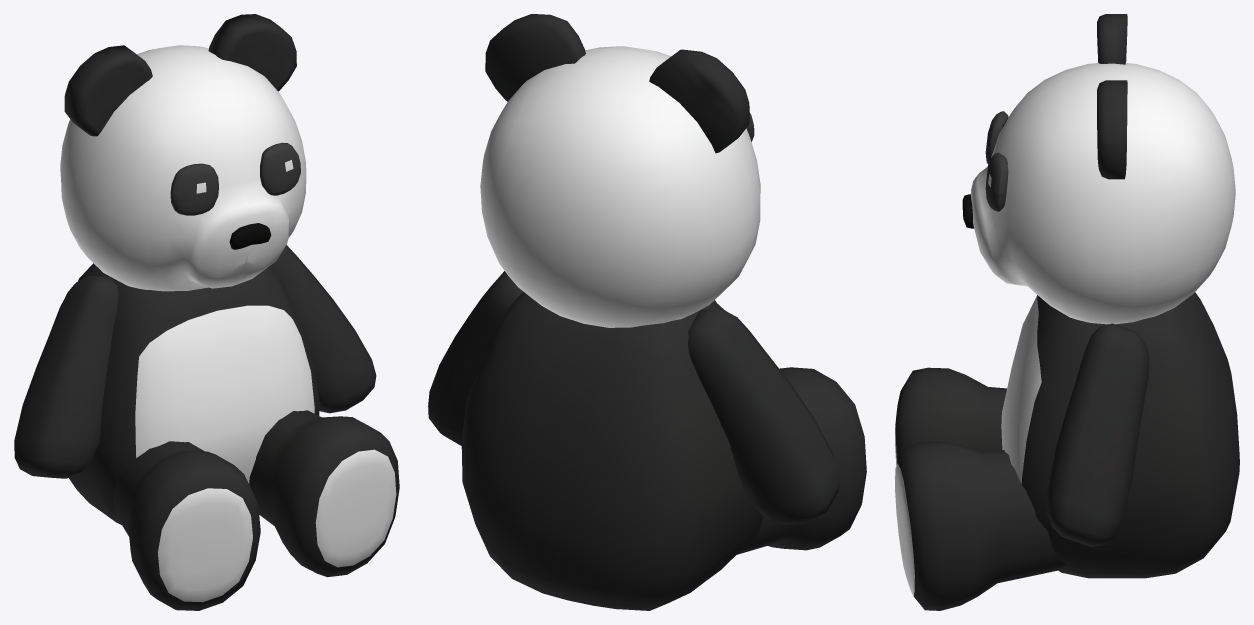
Rendered from _anda.fbx.
3 renders of one model, left to right at view 1: azimuth 30°, elevation 25°; view 2: azimuth 150°, elevation 25°; view 3: azimuth 270°, elevation 25°, orthographic. The views are drawn at different scales.
Visible parts, largest first — view 1: panda; view 2: panda; view 3: panda.
Boxes of the visible parts, box(x1,y1,x2,y2) form: panda: box(14, 14, 399, 610); panda: box(428, 14, 866, 610); panda: box(895, 14, 1239, 610).
Bounding box in the file's own units: 25.05 × 33.61 × 20.38.
1 material, 1 textured.
